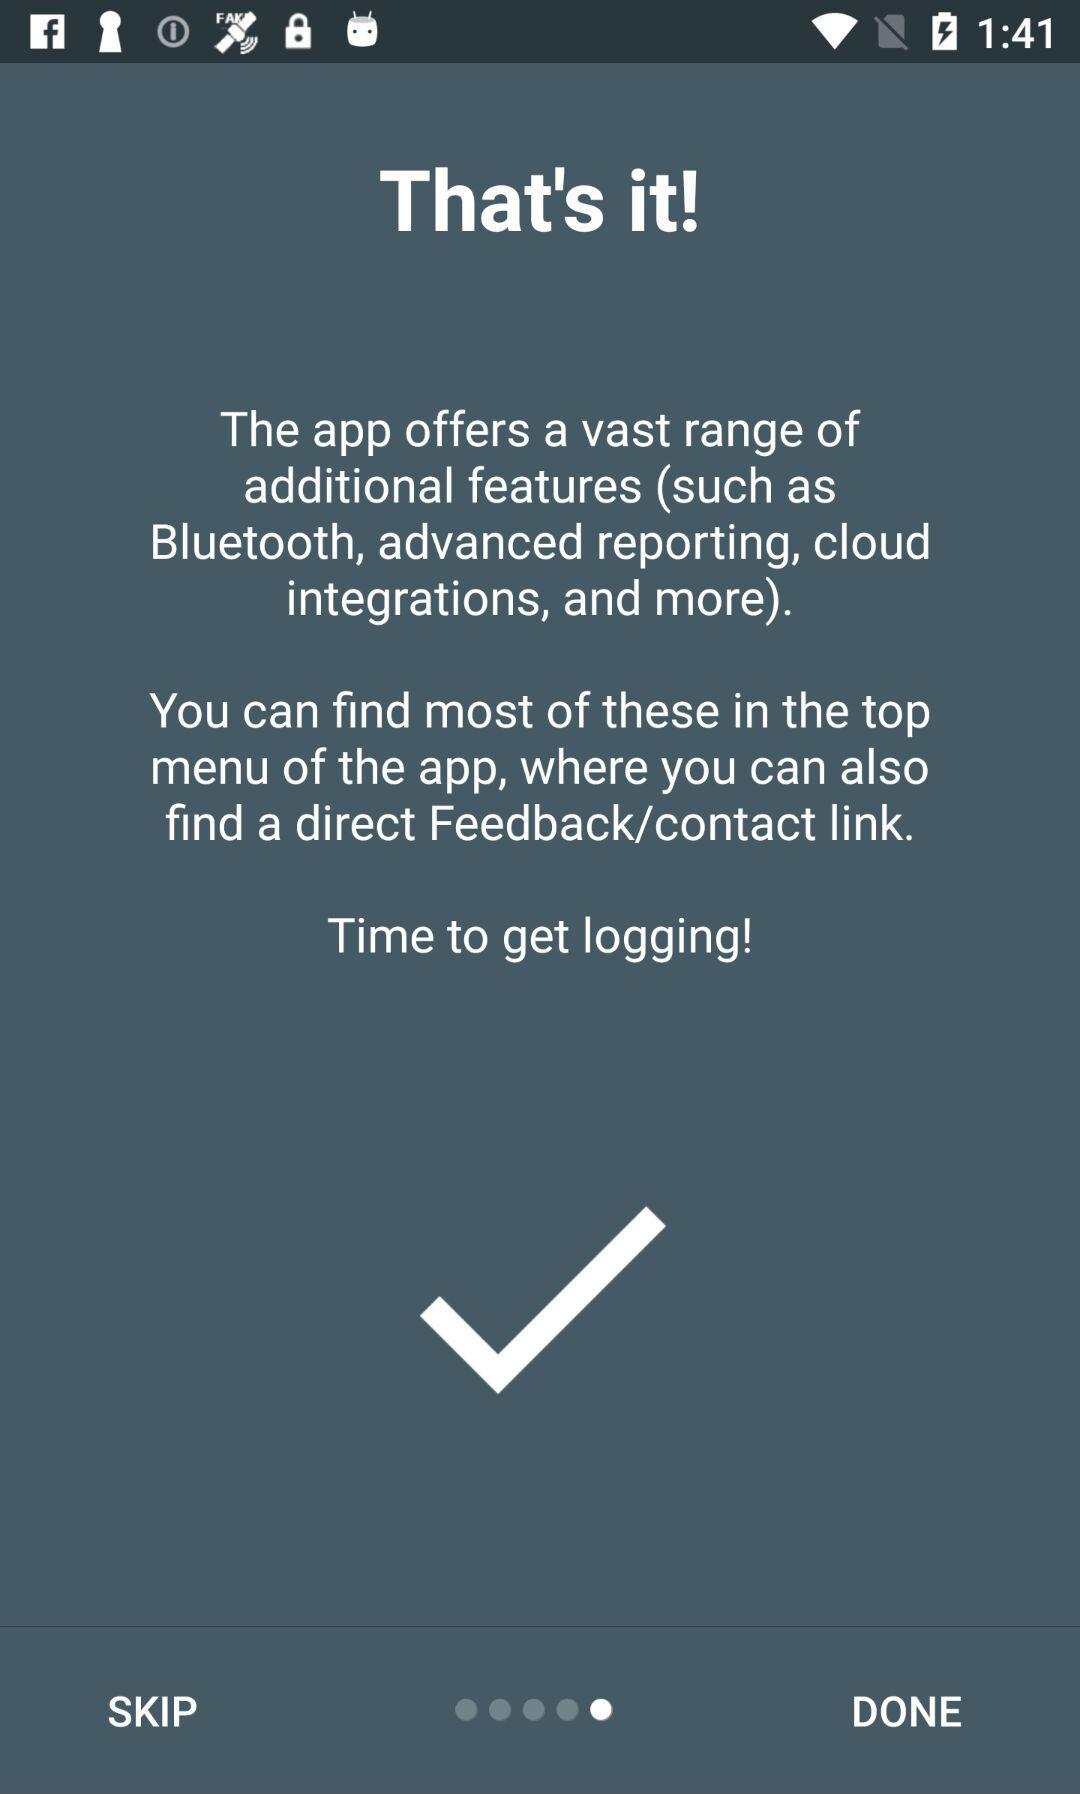Image: (418, 1205, 669, 1397)
PageIndicator: (454, 1697, 614, 1725)
Text: (152, 409, 929, 628), (147, 689, 931, 843), (379, 167, 700, 235), (325, 915, 752, 965), (852, 1695, 963, 1729), (108, 1694, 199, 1727)
UpperTaskBar: (1, 1, 1080, 64)
